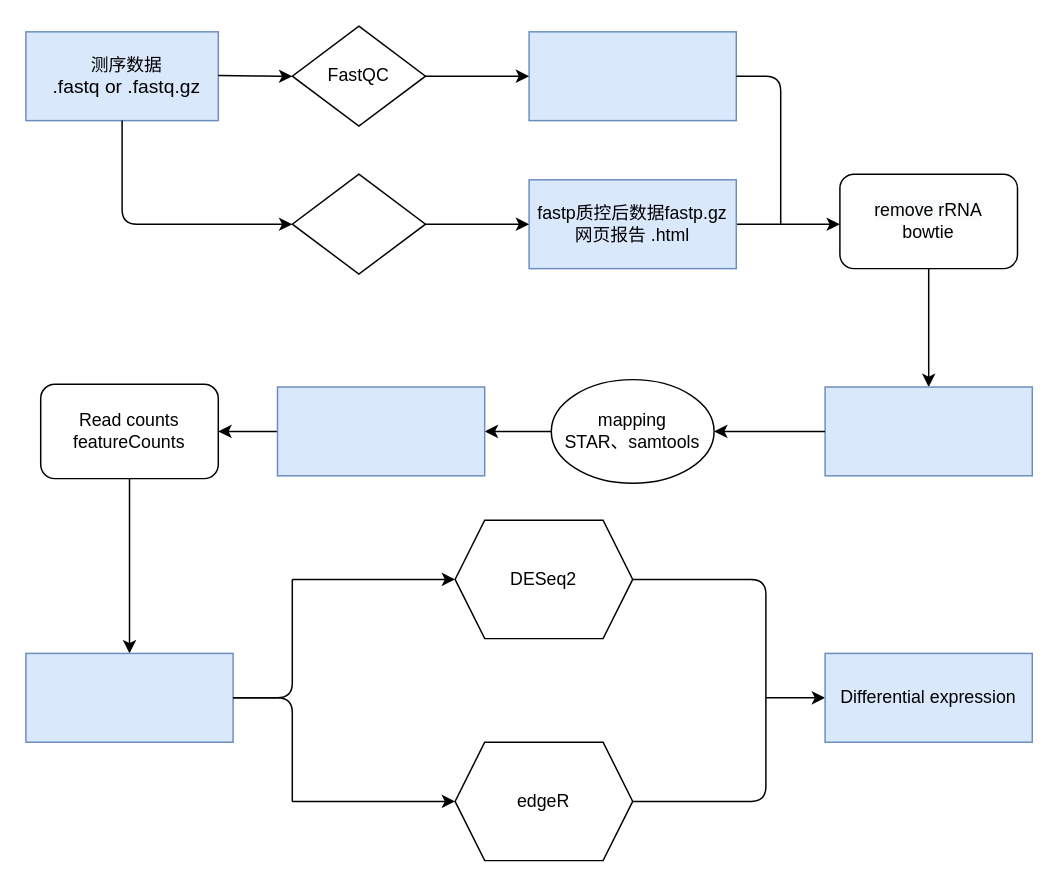
Image size: 1058x887. Some labels were removed from this diagram. Here are the shapes that lost their labels. From the top down, the centre of each, then its label:
At (632,75): "测序数据的网页报告 .html and fastqc.zip".
At (358,223): "trimmed Fastp".
At (380,431): "Aligned to Transcriptome sorted.bam".
At (928,431): "去除rRNA后的PE数据 .fq.gz".
At (128,697): "统计回帖到基因组上的reads数(exon,CDS)".
